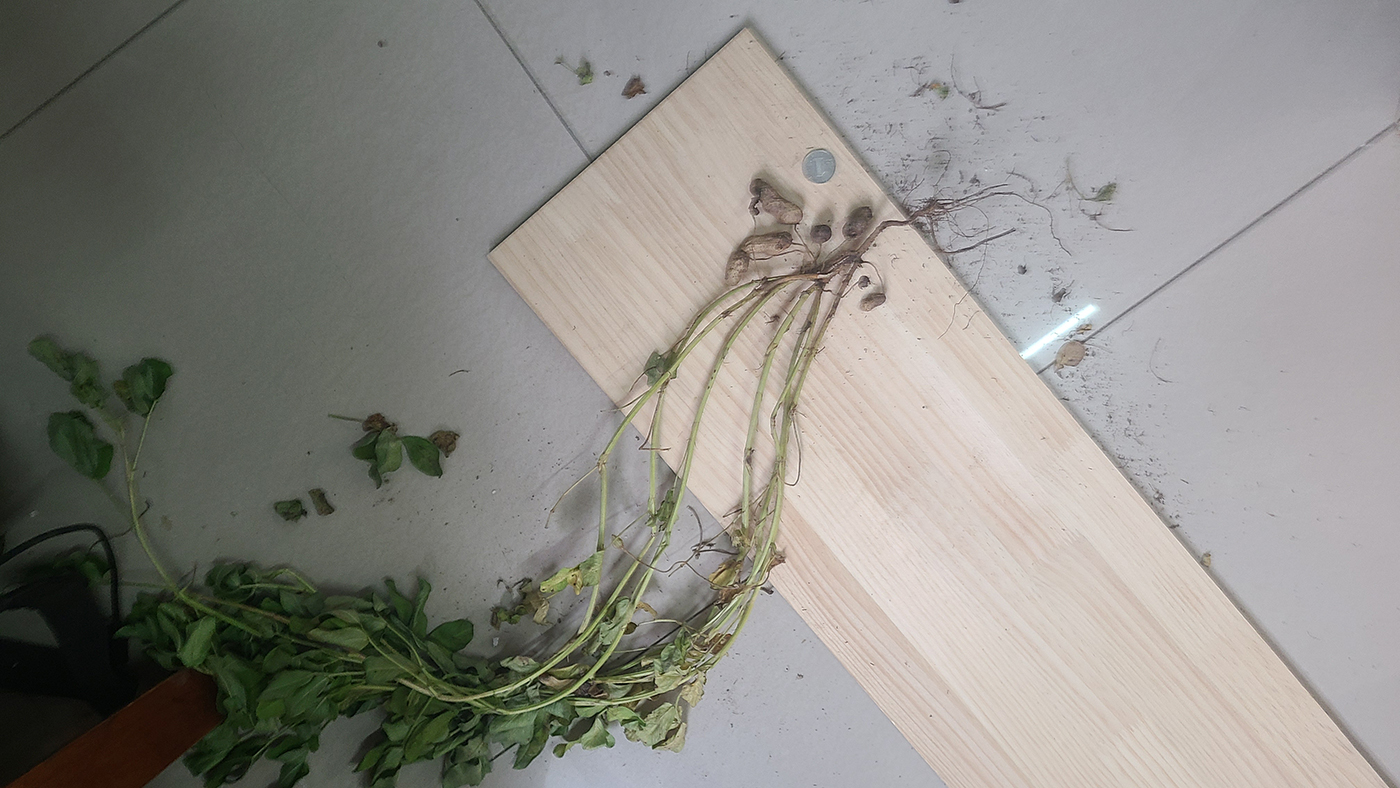h: (740, 231, 792, 252), (725, 253, 750, 287), (860, 293, 887, 313)
l: (751, 178, 804, 225), (844, 206, 871, 237), (811, 225, 832, 243), (749, 196, 760, 218), (859, 273, 870, 291)
